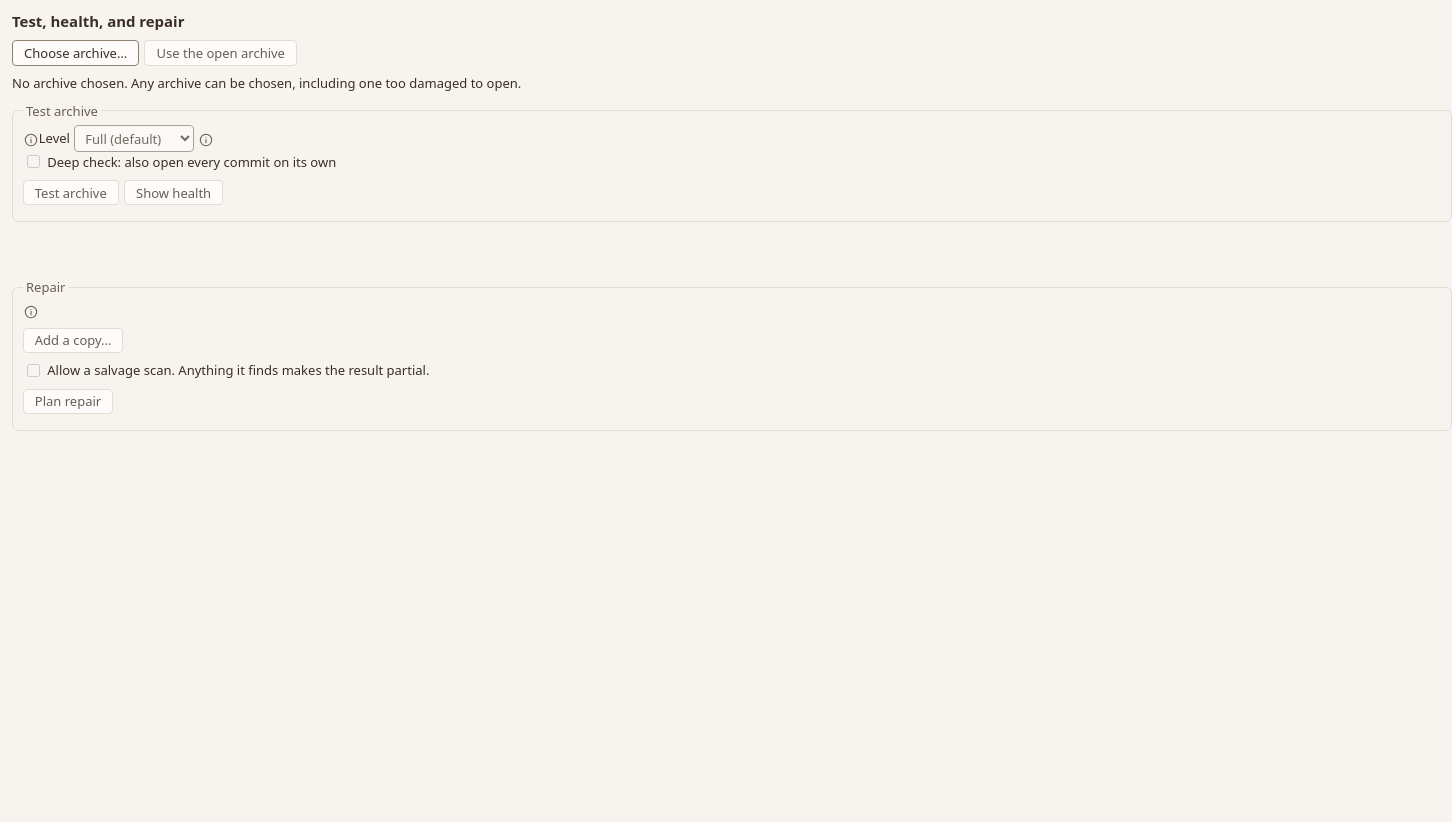
Scenario: a failing report shows FAIL overall and names the failing dimension
Click the button with test id "check-choose": (76, 53) [12,40,139,66]
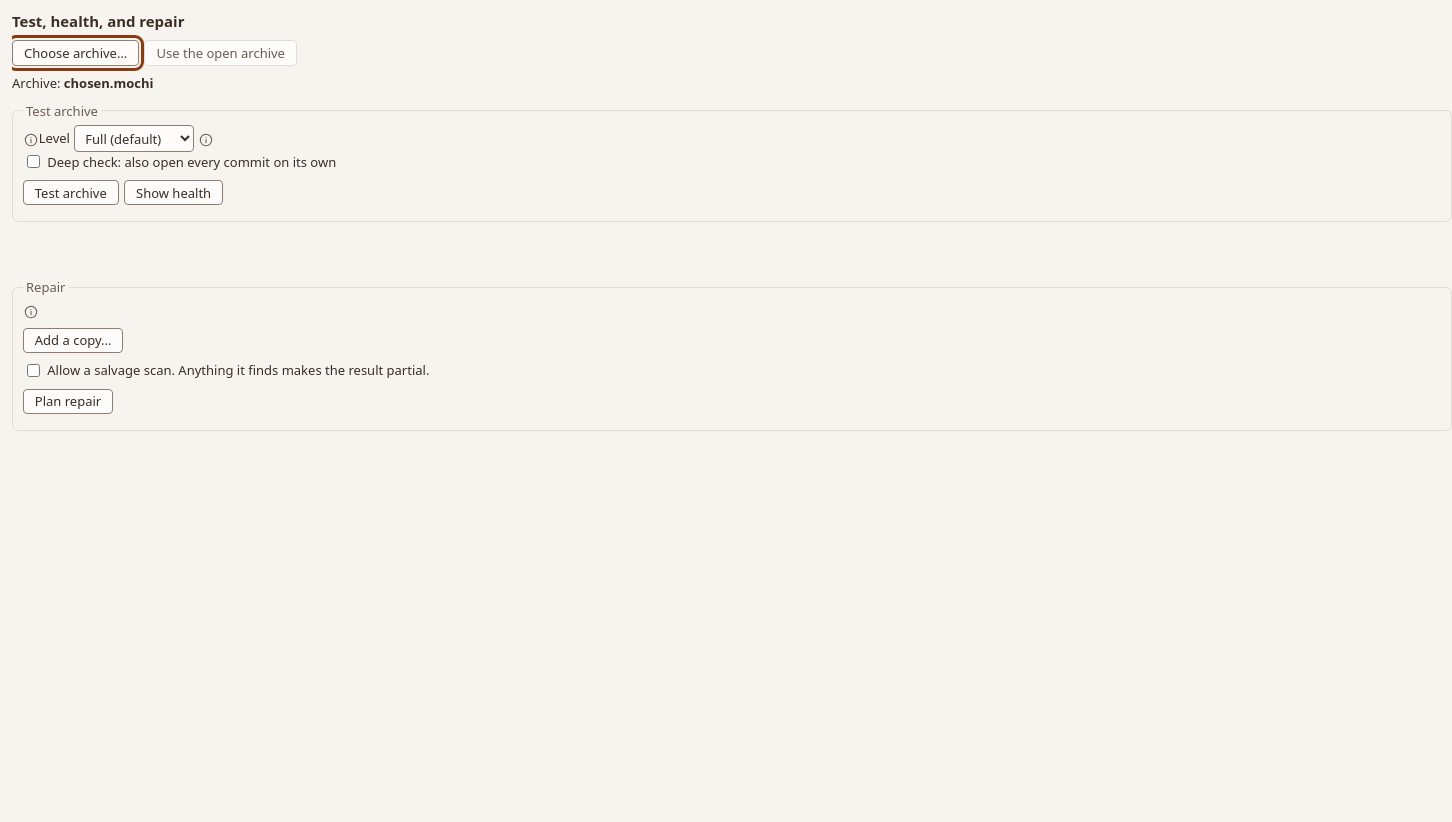
Check: the text "chosen.mochi" is shown, box [64,74,154,92]
Click the button with test id "check-test": (71, 193) [23,180,119,206]
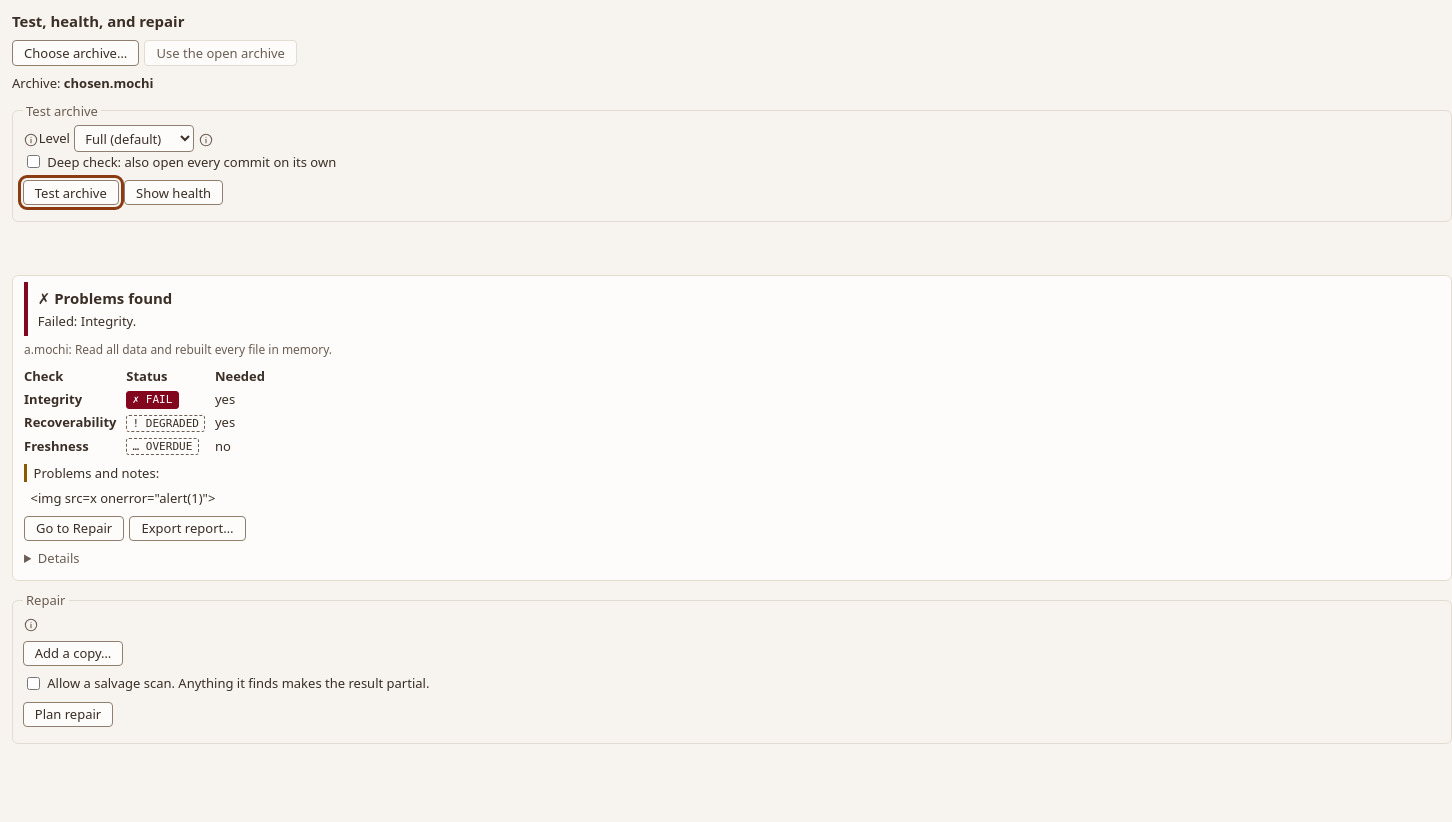
Check: the element with test id "report-headline" reads "Problems found", box [54,288,172,308]
Check: the text with test id "report-verdict-line" reads "Failed: Integrity.", box [38,312,136,330]
Check: the list item with test id "finding" reads "<img src=x onerror=\"alert(1)\">", box [30,488,215,506]
